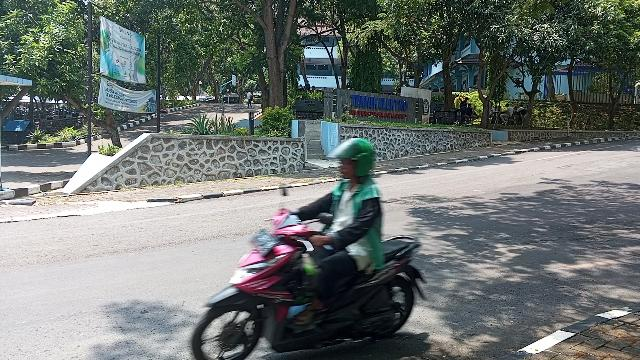helm: (331, 140, 376, 179)
motor: (193, 214, 425, 360)
